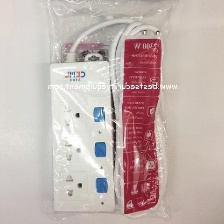three_eye_plug: (47, 56, 118, 217)
